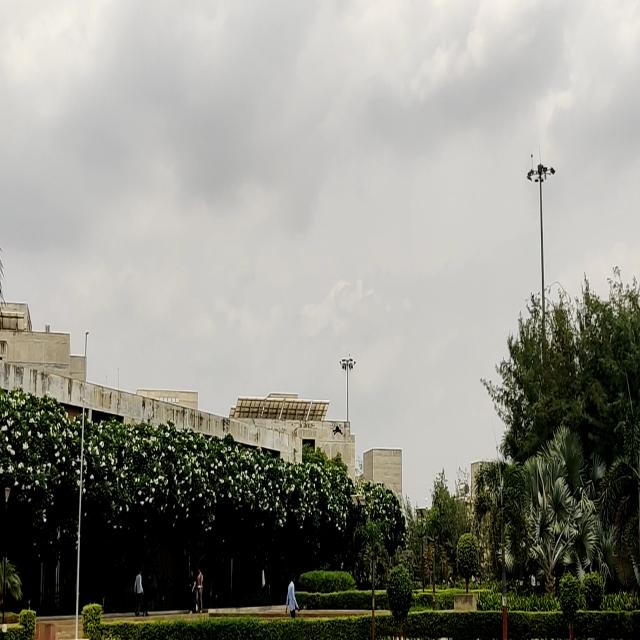drone: (326, 421, 349, 438)
